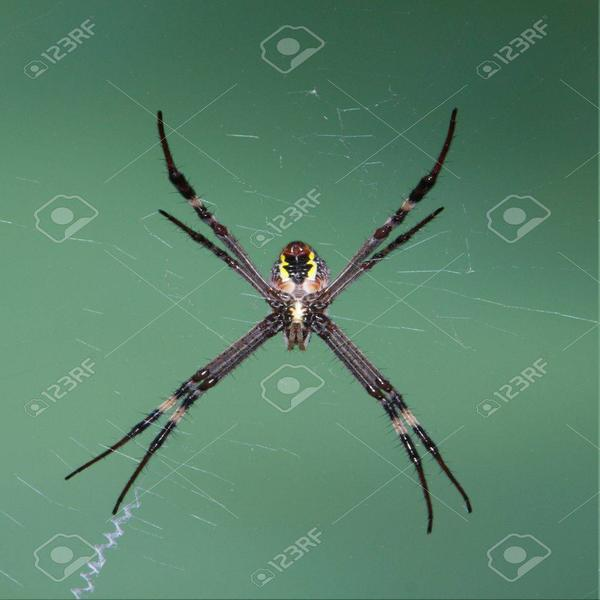St Andrew's Cross Spider: (72, 109, 471, 529)
